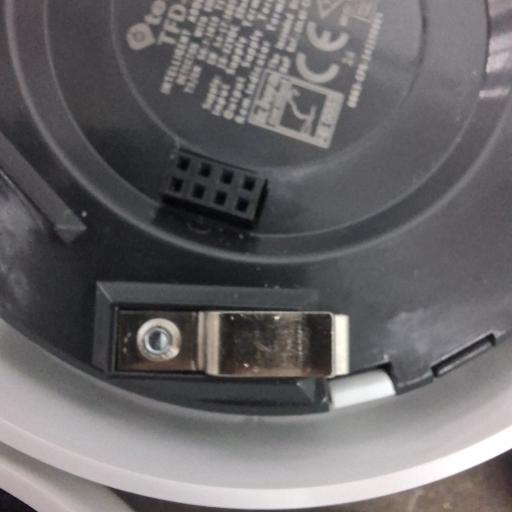yayli: (105, 299, 359, 387)
